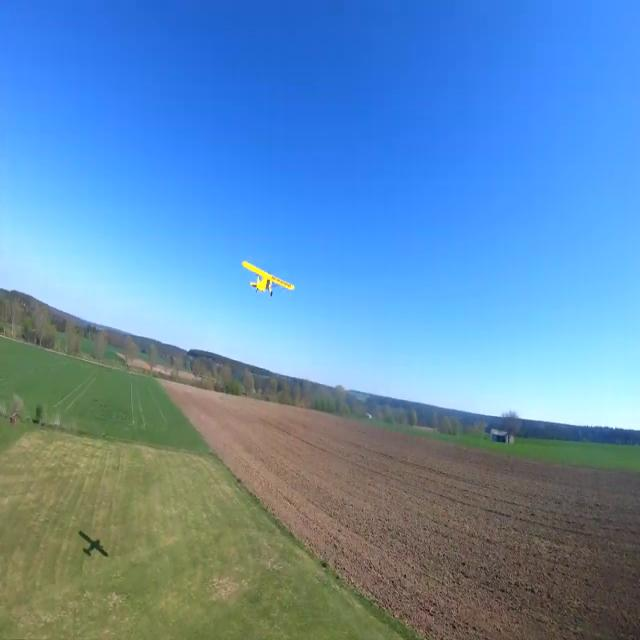iha: (234, 255, 290, 296)
